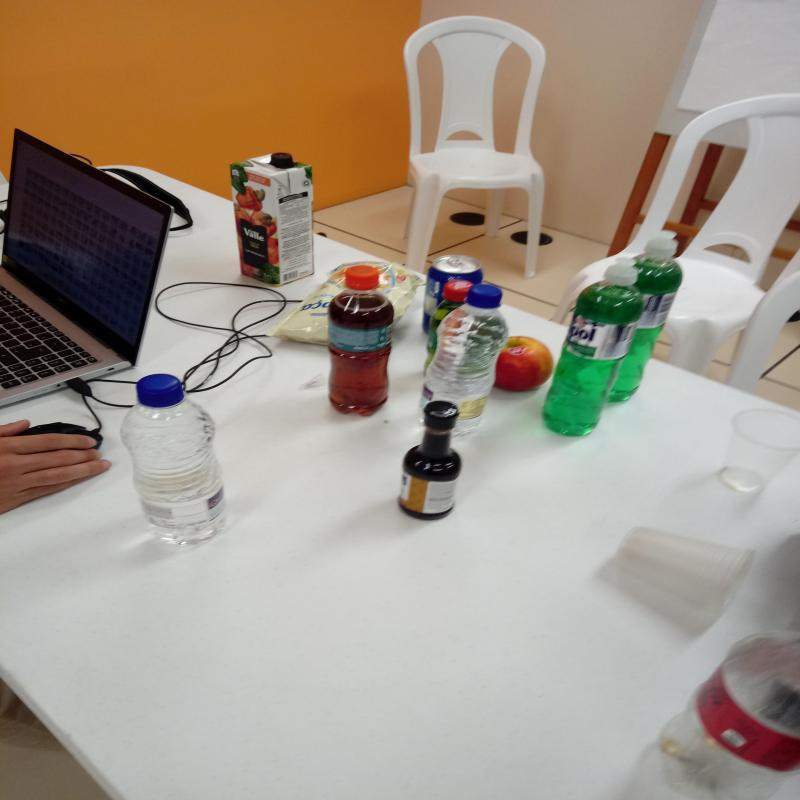Apple: (495, 331, 557, 394)
Cleaner: (542, 258, 644, 438), (615, 230, 682, 403)
CornFlakes: (269, 261, 426, 346)
EnglishSauce: (400, 401, 462, 517)
IceTea: (327, 265, 398, 418)
Tonic: (421, 255, 482, 334)
Water: (119, 374, 228, 548), (422, 284, 508, 422)
